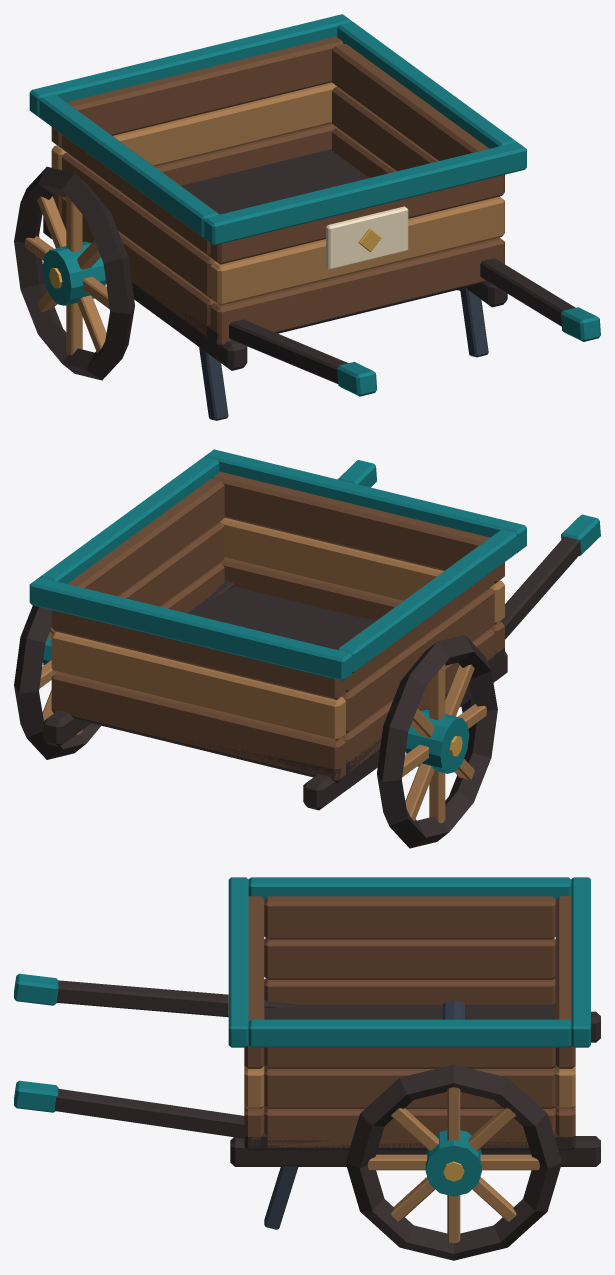
Rendered from 08_Treasure_Cart.glb.
The picture shows the model from 3 angles, top to bottom: view 1: azimuth 30°, elevation 25°; view 2: azimuth 150°, elevation 25°; view 3: azimuth 270°, elevation 25°; orthographic projection. The views are drawn at different scales.
Parts seen in each view (by area): view 1: 08_Treasure_Cart__Body, 08_Treasure_Cart__Wheel_Left; view 2: 08_Treasure_Cart__Body, 08_Treasure_Cart__Wheel_Left, 08_Treasure_Cart__Wheel_Right; view 3: 08_Treasure_Cart__Body, 08_Treasure_Cart__Wheel_Right.
Boxes of the visible parts, left/top/right/bottom form: 08_Treasure_Cart__Body: left=29, top=14, right=600, bottom=420; 08_Treasure_Cart__Wheel_Left: left=14, top=166, right=134, bottom=380; 08_Treasure_Cart__Body: left=29, top=449, right=600, bottom=810; 08_Treasure_Cart__Wheel_Left: left=377, top=634, right=497, bottom=848; 08_Treasure_Cart__Wheel_Right: left=14, top=605, right=100, bottom=759; 08_Treasure_Cart__Body: left=14, top=877, right=600, bottom=1229; 08_Treasure_Cart__Wheel_Right: left=345, top=1064, right=561, bottom=1260.
Bounding box in the file's own units: 3.22 × 1.73 × 4.15.
Materials: 1 (1 with a texture image).
